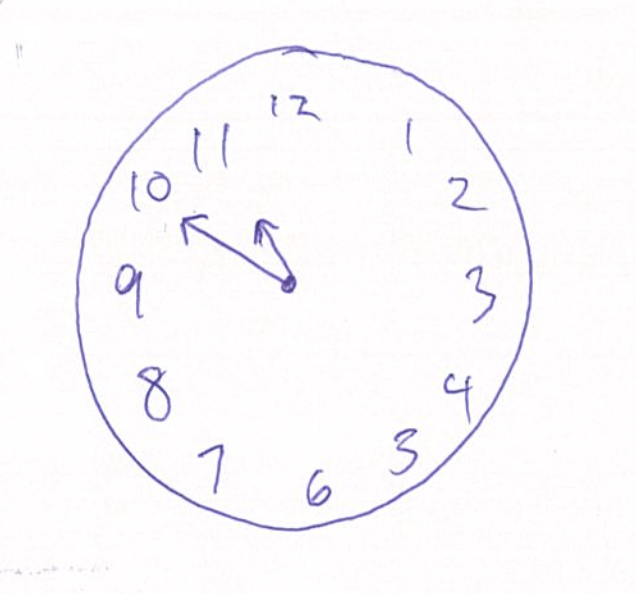1: (401, 116, 421, 158)
10: (128, 168, 172, 212)
11: (187, 119, 233, 175)
12: (269, 88, 327, 126)
2: (448, 174, 490, 215)
3: (460, 264, 498, 325)
4: (444, 370, 477, 425)
6: (301, 465, 335, 509)
7: (196, 437, 227, 495)
8: (133, 364, 176, 424)
9: (111, 263, 148, 321)
contour: (70, 40, 537, 534)
hand: (177, 216, 296, 293)
top_left_arrow: (179, 214, 288, 289), (253, 216, 296, 281)
